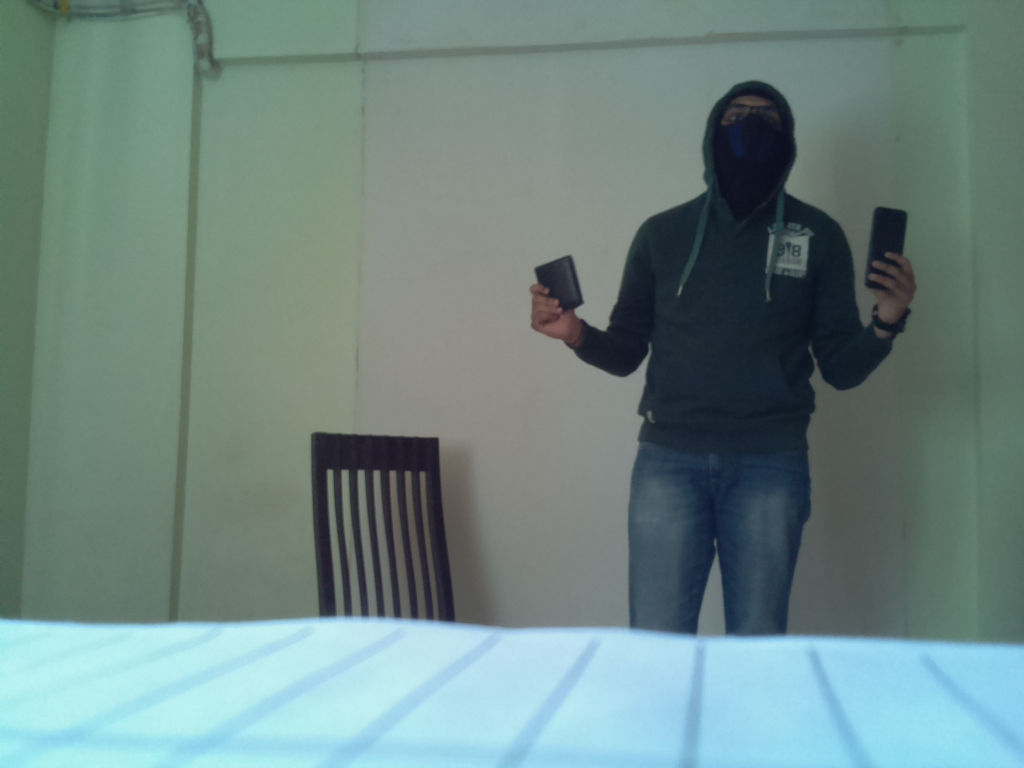none2: (862, 207, 910, 302), (534, 254, 582, 319), (871, 305, 912, 336)
